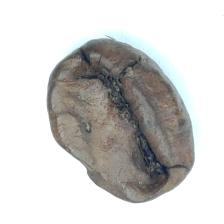NG: (50, 62, 152, 134), (60, 135, 170, 195)
